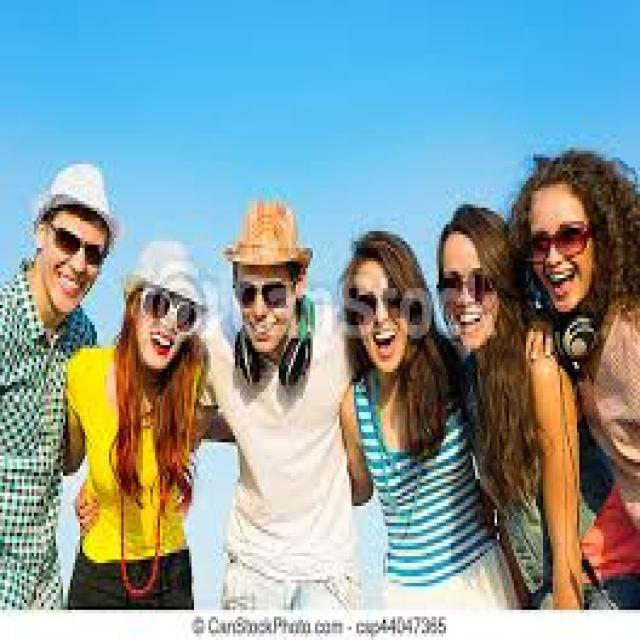hat: (223, 198, 313, 348), (32, 168, 121, 315), (126, 241, 211, 369)
head: (516, 164, 628, 312), (340, 242, 424, 376), (436, 211, 514, 352)
